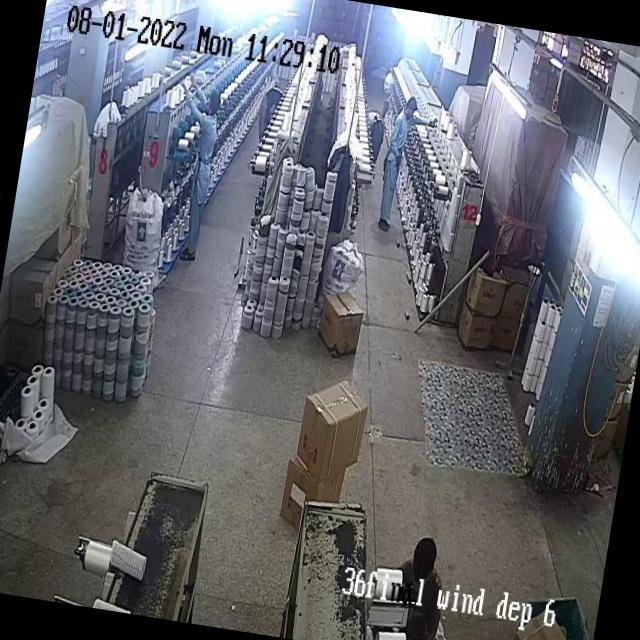person: (170, 82, 228, 266), (378, 522, 452, 620), (373, 85, 418, 238)
